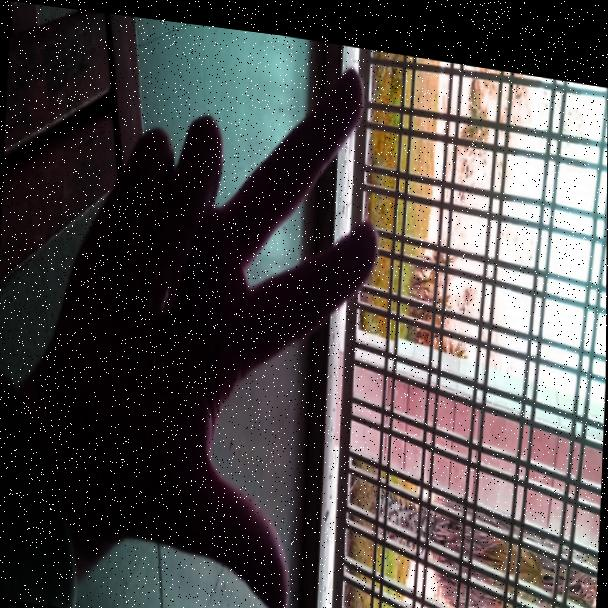three: (88, 9, 392, 608)
